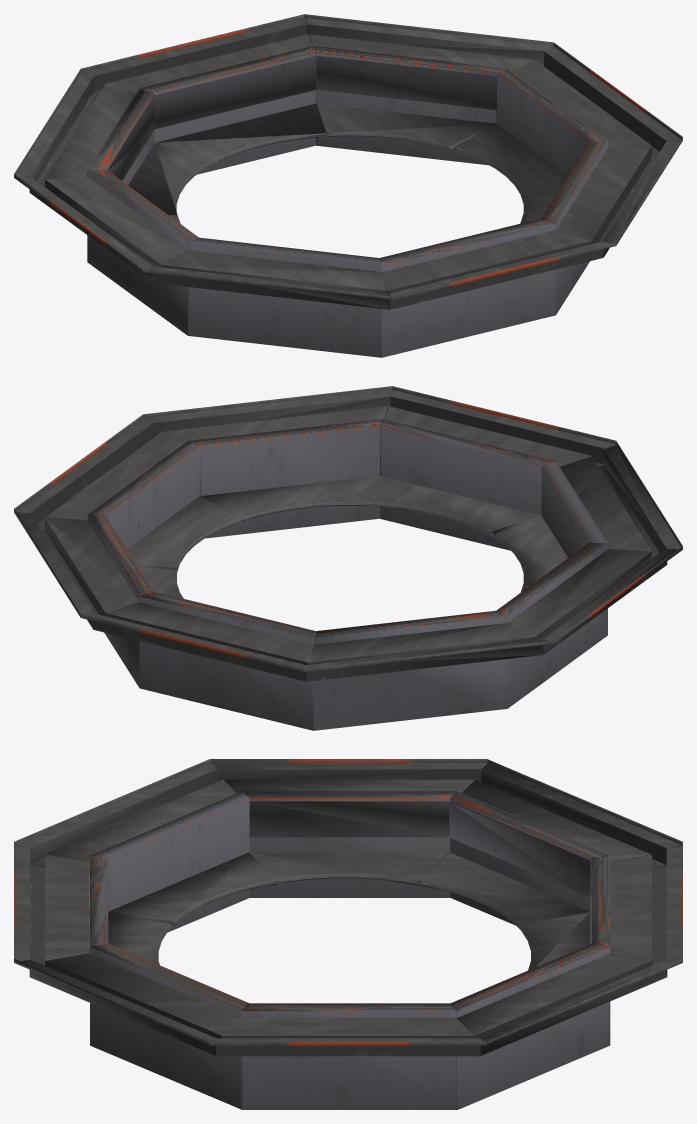
File: Engine_Mount.fbx
3 renders of one model, top to bottom at view 1: azimuth 30°, elevation 25°; view 2: azimuth 150°, elevation 25°; view 3: azimuth 270°, elevation 25°, orthographic. The views are drawn at different scales.
Visible parts, largest first — view 1: 1_Engine_Mount_seg05, 1_Engine_Mount_seg06, 1_Engine_Mount_seg01.001, 1_Engine_Mount_seg02.001, 1_Engine_Mount_seg01, 1_Engine_Mount_seg07, 1_Engine_Mount_seg02, 1_Engine_Mount_seg04, 1_Engine_Mount_seg08, 1_Engine_Mount_seg05.001, 1_Engine_Mount_seg03, 1_Engine_Mount_seg04.001 (+9 smaller); view 2: 1_Engine_Mount_seg03.001, 1_Engine_Mount_seg07.001, 1_Engine_Mount_seg02.001, 1_Engine_Mount_seg06.001, 1_Engine_Mount_seg07, 1_Engine_Mount_seg06, 1_Engine_Mount_seg02, 1_Engine_Mount_seg03, 1_Engine_Mount_seg04, 1_Engine_Mount_seg01, 1_Engine_Mount_seg08, 1_Engine_Mount_seg05 (+9 smaller); view 3: 1_Engine_Mount_seg08, 1_Engine_Mount_seg04.001, 1_Engine_Mount_seg07, 1_Engine_Mount_seg01.001, 1_Engine_Mount_seg04, 1_Engine_Mount_seg05.001, 1_Engine_Mount_seg03.001, 1_Engine_Mount_seg03, 1_Engine_Mount_seg05, 1_Engine_Mount_seg01, 1_Engine_Mount_seg08.001, 1_Engine_Mount_seg02 (+9 smaller).
Part boxes in pixels (<box>): 1_Engine_Mount_seg05: <box>304,14,553,109</box>; 1_Engine_Mount_seg06: <box>81,14,316,128</box>; 1_Engine_Mount_seg01.001: <box>188,237,381,357</box>; 1_Engine_Mount_seg02.001: <box>379,218,555,357</box>; 1_Engine_Mount_seg01: <box>142,250,390,309</box>; 1_Engine_Mount_seg07: <box>14,69,154,186</box>; 1_Engine_Mount_seg02: <box>381,230,616,309</box>; 1_Engine_Mount_seg04: <box>513,42,682,157</box>; 1_Engine_Mount_seg08: <box>14,174,188,282</box>; 1_Engine_Mount_seg05.001: <box>314,46,507,165</box>; 1_Engine_Mount_seg03: <box>556,137,682,257</box>; 1_Engine_Mount_seg04.001: <box>496,68,607,175</box>; 1_Engine_Mount_seg03.001: <box>190,419,382,538</box>; 1_Engine_Mount_seg07.001: <box>313,610,507,730</box>; 1_Engine_Mount_seg02.001: <box>380,419,555,550</box>; 1_Engine_Mount_seg06.001: <box>139,591,316,730</box>; 1_Engine_Mount_seg07: <box>304,623,552,681</box>; 1_Engine_Mount_seg06: <box>80,602,313,681</box>; 1_Engine_Mount_seg02: <box>384,386,616,466</box>; 1_Engine_Mount_seg03: <box>143,386,392,443</box>; 1_Engine_Mount_seg04: <box>14,414,183,529</box>; 1_Engine_Mount_seg01: <box>560,441,682,564</box>; 1_Engine_Mount_seg08: <box>508,546,682,654</box>; 1_Engine_Mount_seg05: <box>14,509,138,628</box>; 1_Engine_Mount_seg08: <box>211,759,487,837</box>; 1_Engine_Mount_seg04.001: <box>241,1003,456,1109</box>; 1_Engine_Mount_seg07: <box>449,759,682,896</box>; 1_Engine_Mount_seg01.001: <box>90,791,249,932</box>; 1_Engine_Mount_seg04: <box>210,1017,486,1056</box>; 1_Engine_Mount_seg05.001: <box>449,944,609,1109</box>; 1_Engine_Mount_seg03.001: <box>90,943,248,1109</box>; 1_Engine_Mount_seg03: <box>14,953,240,1055</box>; 1_Engine_Mount_seg05: <box>456,953,682,1055</box>; 1_Engine_Mount_seg01: <box>16,759,236,866</box>; 1_Engine_Mount_seg08.001: <box>242,791,456,897</box>; 1_Engine_Mount_seg02: <box>14,841,173,965</box>.
Size of the model in its own units: 25.06 by 4.12 by 25.06.
